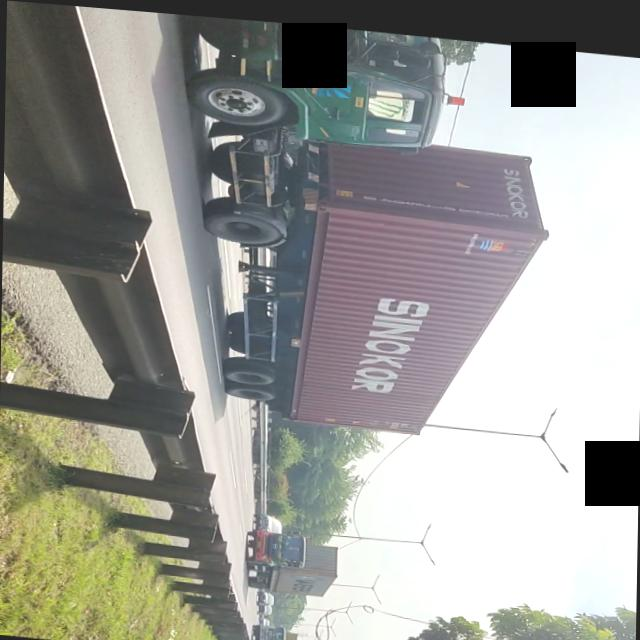Golongan IV: (178, 11, 483, 432)
